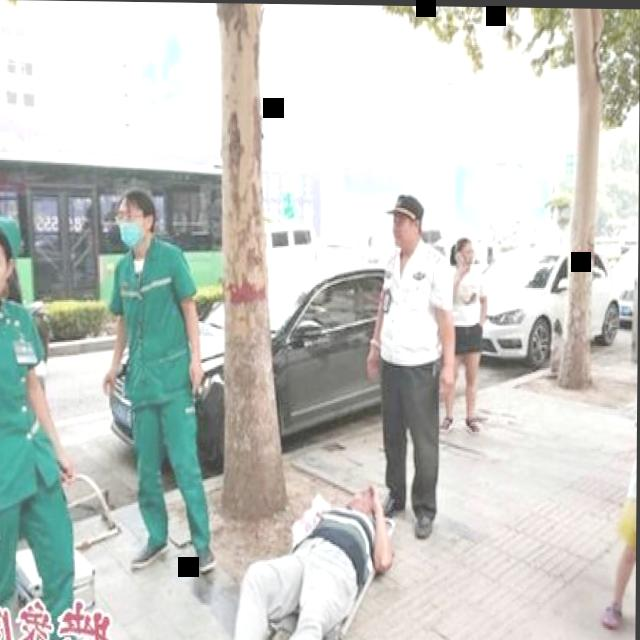Fall-Detected: (174, 461, 413, 640)
